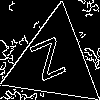Z: (29, 37, 72, 90)
